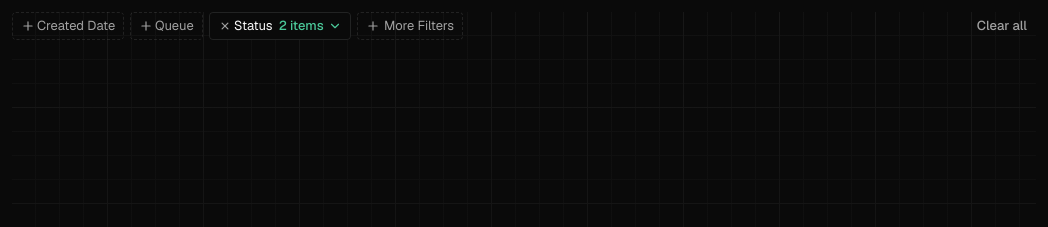
Test: tooltips prop › shows chip tooltips by default
The width and height of the screenshot is (1048, 227).
Hover over the button with aria-label "Status filter:" at (292, 26), box [234,13,350,39]
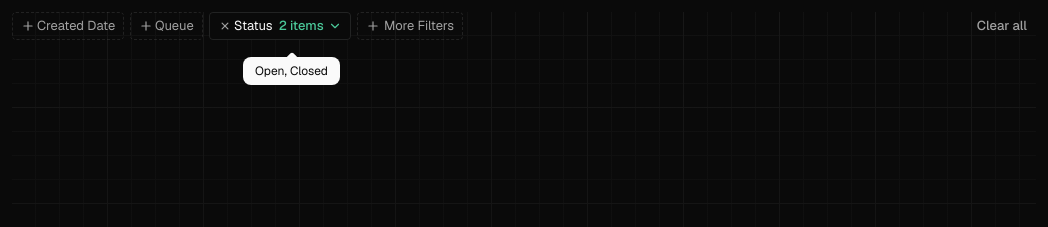
Expected: the tooltip reads "Open, Closed", [255,63,328,79]
